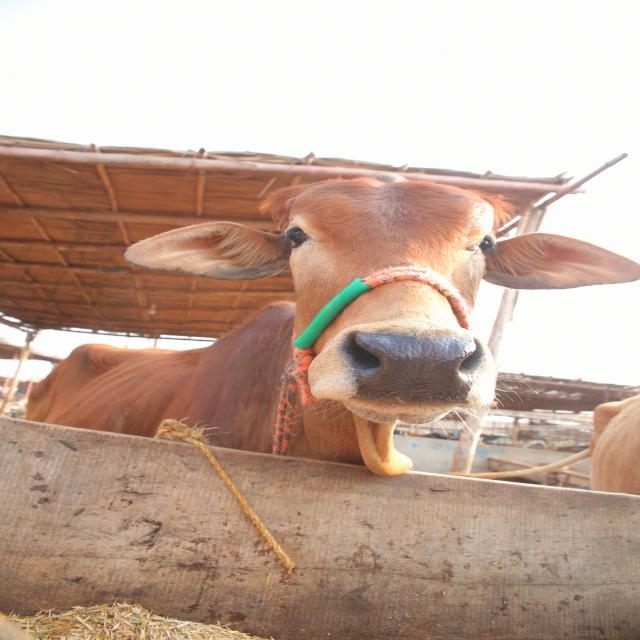muzzles: (338, 322, 488, 408)
